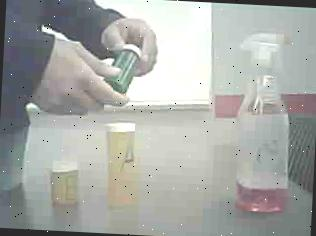Bottle A: (98, 118, 151, 223)
Bottle B: (46, 156, 86, 213)
Bottle C: (101, 40, 145, 98)
hazard: (228, 25, 301, 228)
